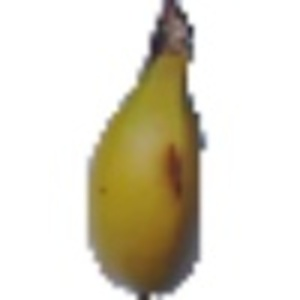banana: (83, 3, 225, 289)
